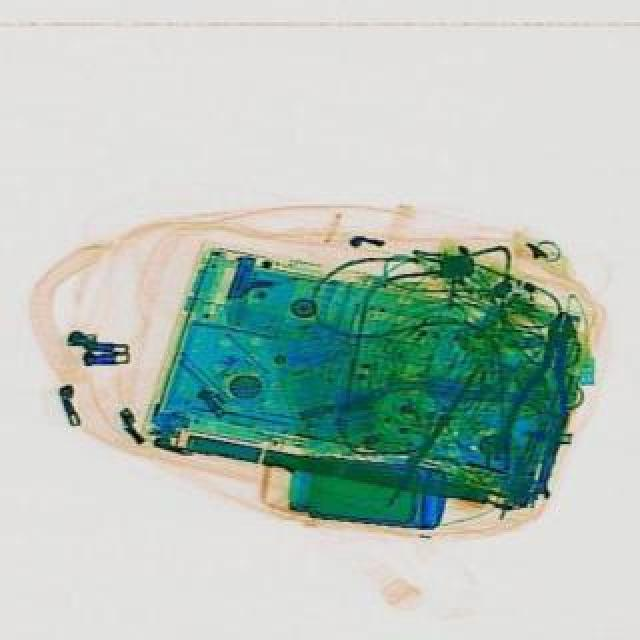scissors: (534, 432, 566, 500)
wrench: (494, 306, 594, 486)
